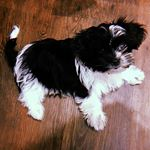puppy: (8, 17, 148, 133)
